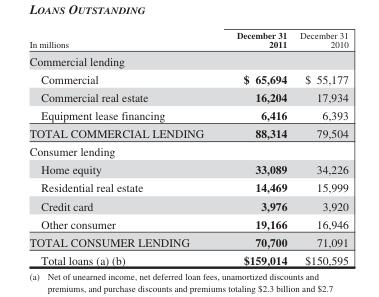table: (28, 29, 347, 266)
table column: (28, 29, 219, 266), (219, 29, 292, 266), (292, 29, 347, 266)
table column header: (28, 29, 347, 51)
table projected row header: (28, 51, 347, 69), (28, 142, 347, 160)
table row: (28, 29, 347, 51), (28, 105, 347, 124), (28, 51, 347, 69), (28, 69, 347, 87), (28, 87, 347, 105), (28, 124, 347, 142), (28, 142, 347, 160), (28, 160, 347, 178), (28, 178, 347, 196), (28, 196, 347, 214), (28, 214, 347, 232), (28, 232, 347, 250), (28, 250, 347, 266)
